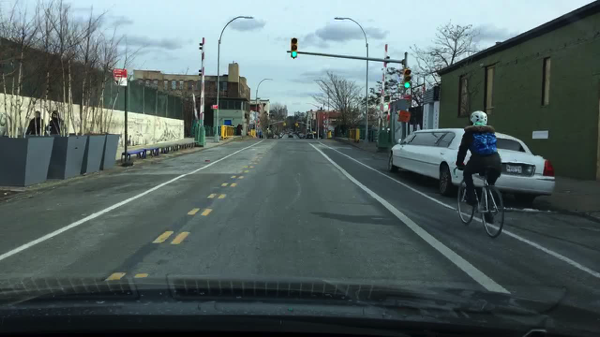bike: (450, 162, 506, 238)
car: (387, 128, 557, 208), (305, 131, 314, 139), (273, 132, 280, 140), (268, 132, 275, 139), (288, 132, 294, 138), (279, 131, 284, 138), (300, 132, 304, 140)
person: (24, 111, 46, 134), (50, 111, 69, 134)
rider: (453, 111, 501, 224)
traffic light: (290, 37, 298, 59), (403, 68, 411, 89)
traffic sign: (113, 68, 126, 88), (396, 110, 410, 124), (210, 104, 219, 110), (401, 95, 411, 98)
